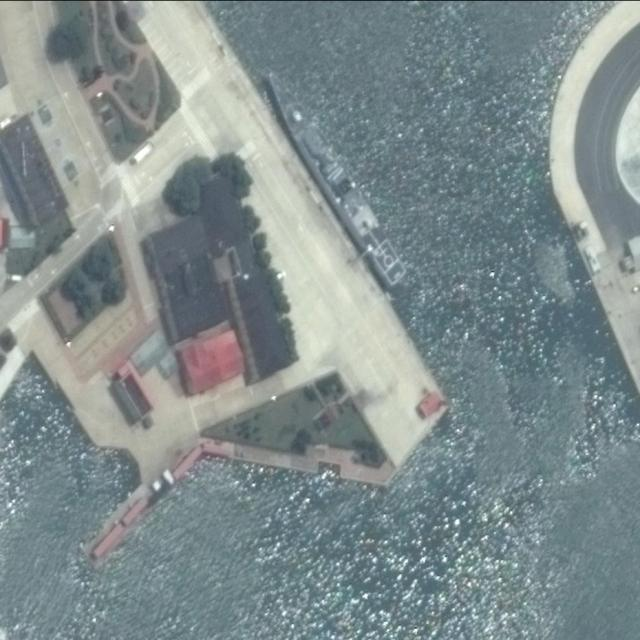Auxiliary Ships: (254, 59, 416, 290)
